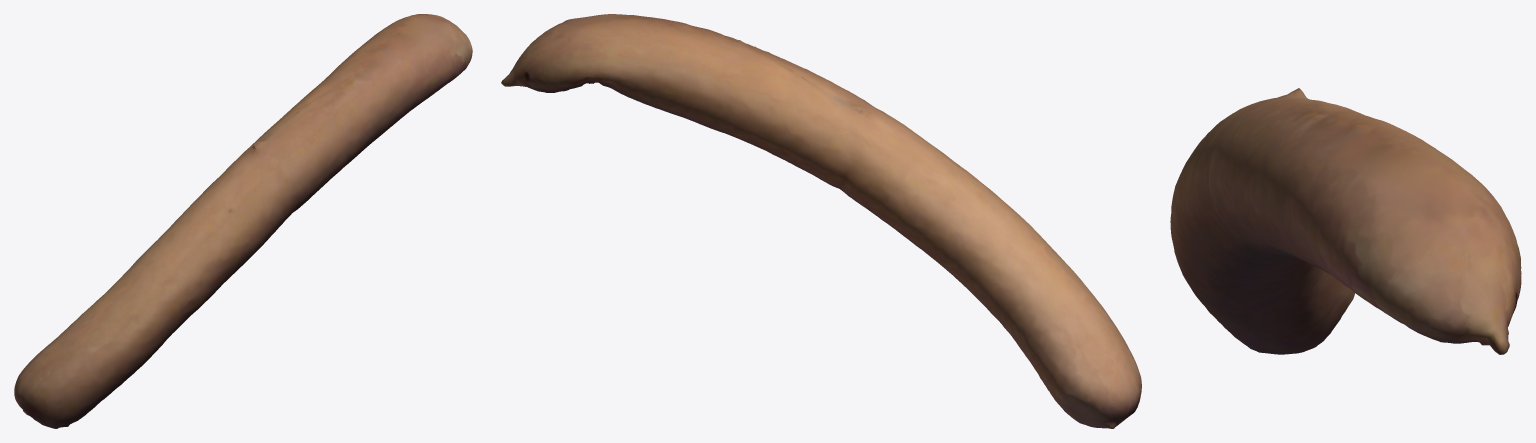
File: Wiener_low.fbx
3 renders of one model, left to right at view 1: azimuth 30°, elevation 25°; view 2: azimuth 150°, elevation 25°; view 3: azimuth 270°, elevation 25°, orthographic. The views are drawn at different scales.
Parts seen in each view (by area): view 1: Wiener_low_tex; view 2: Wiener_low_tex; view 3: Wiener_low_tex.
Part boxes in pixels (x1,y1,x2,y2): Wiener_low_tex: (14,14,472,428); Wiener_low_tex: (501,14,1141,428); Wiener_low_tex: (1170,88,1521,354).
Size of the model in its own units: 15.29 by 8.28 by 4.67.
1 material, 1 textured.
